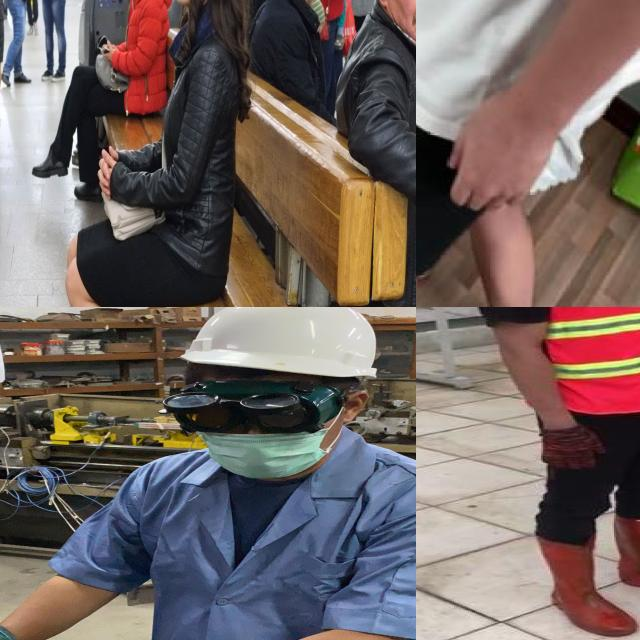No_Ear-Protection: (344, 390, 371, 423)
boots: (538, 536, 636, 637), (614, 514, 640, 603)
face_mask: (197, 428, 328, 480)
glasses: (163, 381, 346, 433)
hand_glove: (543, 425, 603, 470)
head_helmet: (181, 307, 377, 377)
person: (467, 307, 640, 640)
vest: (539, 307, 640, 415)
